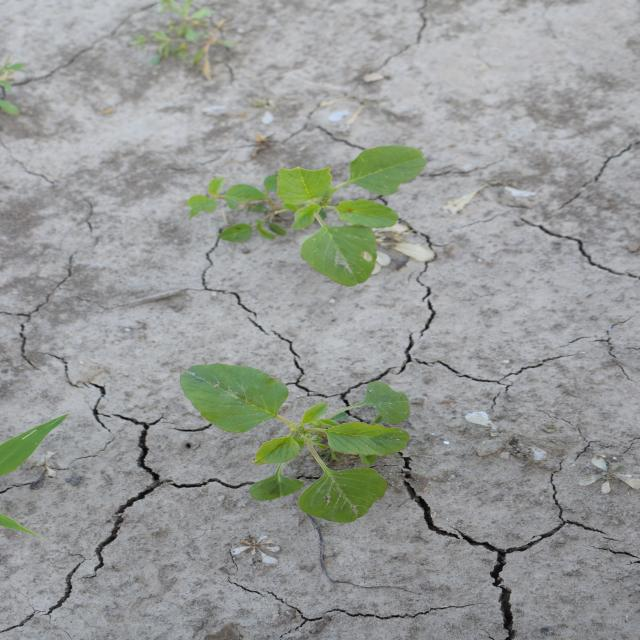PalmerAmaranth: (177, 361, 414, 526), (184, 144, 429, 288)
